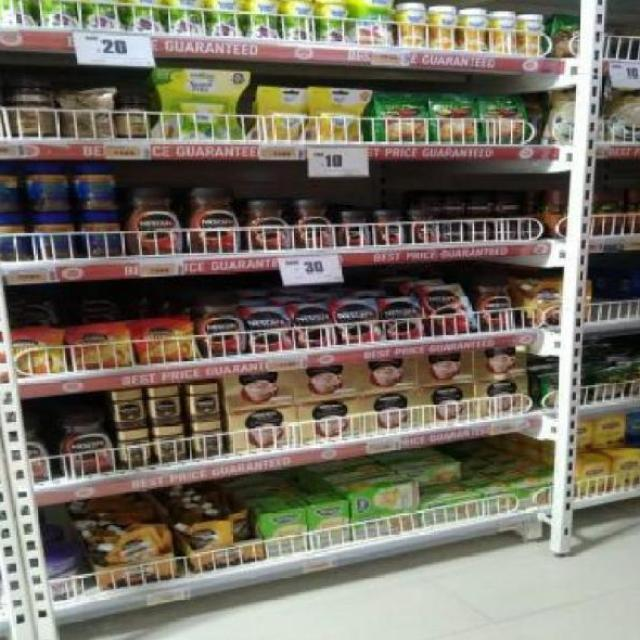Coffee: (123, 184, 181, 254), (189, 184, 238, 252), (64, 409, 112, 471), (197, 289, 242, 355), (0, 331, 62, 375), (423, 285, 472, 333), (245, 201, 290, 250), (72, 329, 130, 367), (138, 324, 192, 362), (477, 278, 514, 332), (295, 201, 334, 248), (247, 310, 288, 350), (337, 304, 375, 343), (295, 308, 332, 347), (382, 302, 421, 337), (340, 210, 369, 246), (189, 386, 219, 420), (376, 210, 405, 244), (116, 393, 144, 428), (119, 433, 149, 465), (155, 428, 184, 460), (152, 389, 178, 424), (193, 424, 222, 454), (410, 210, 434, 244), (440, 223, 465, 242), (496, 196, 521, 214), (469, 225, 493, 242), (471, 196, 491, 216), (444, 196, 464, 215), (497, 222, 516, 241), (521, 221, 541, 238), (417, 195, 441, 209)
